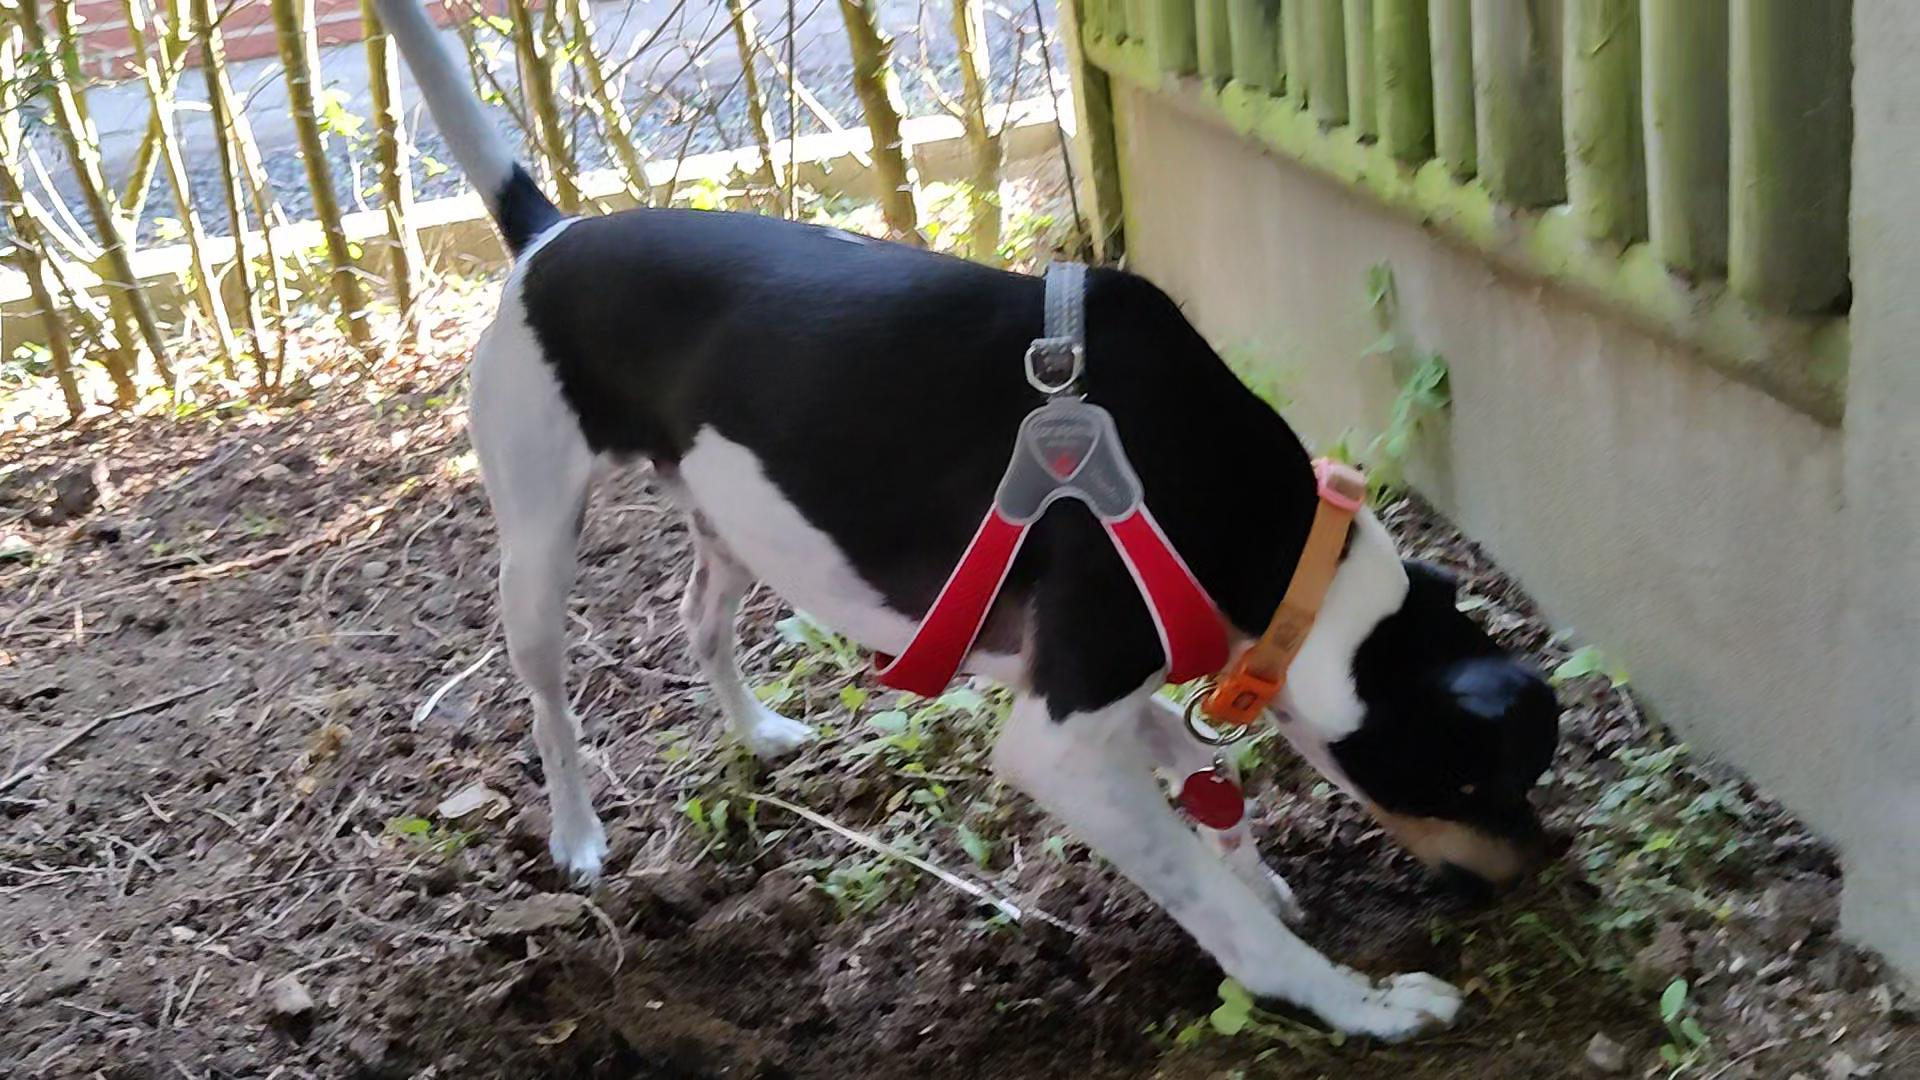Dog: (351, 0, 1577, 1051)
